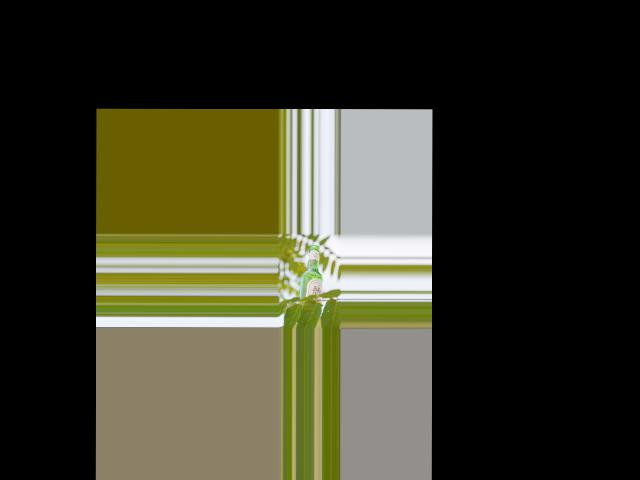beer: (300, 244, 323, 304)
